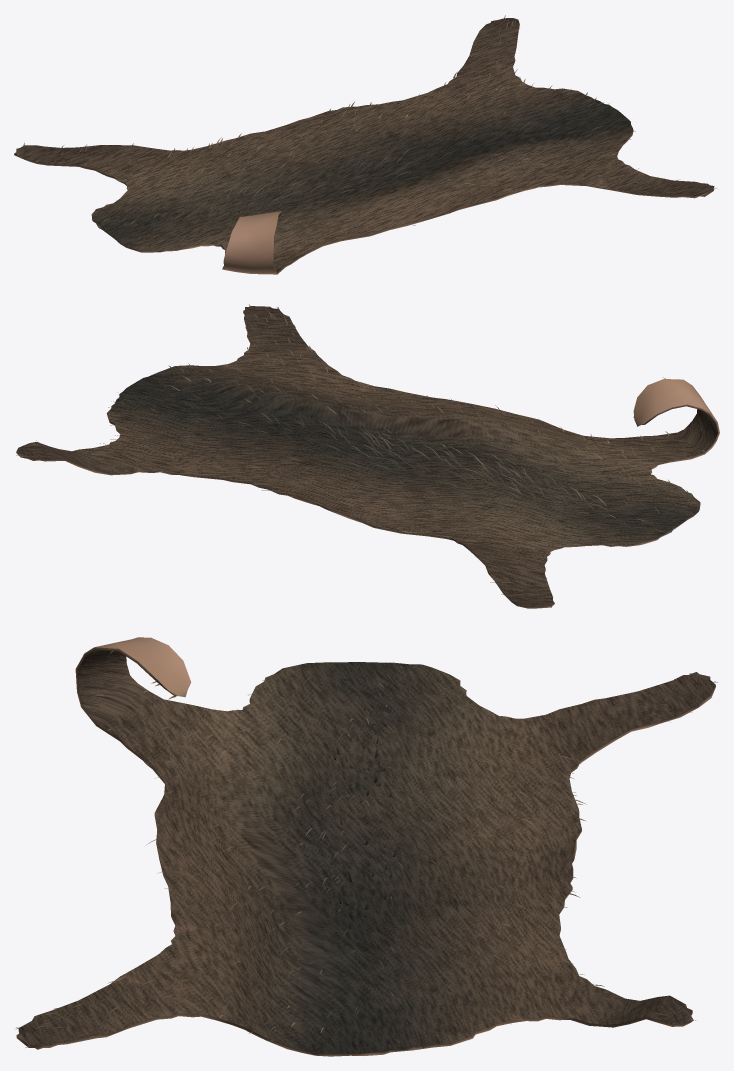
File: boar_hide.glb
3 views of the same model, one above another, from view 1: azimuth 30°, elevation 25°; view 2: azimuth 150°, elevation 25°; view 3: azimuth 270°, elevation 25° (orthographic). The views are drawn at different scales.
Visible parts, largest first — view 1: boar_hide; view 2: boar_hide; view 3: boar_hide.
Boxes of the visible parts, x1,y1,x2,y2 form: boar_hide: (14, 15, 716, 274); boar_hide: (16, 304, 719, 608); boar_hide: (15, 637, 717, 1056).
Size of the model in its own units: 1.54 by 0.17 by 1.17.
2 materials, 1 textured.
